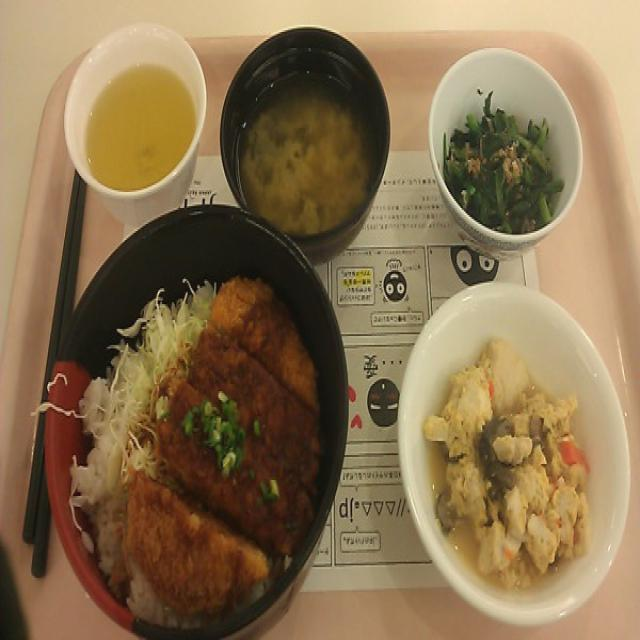pork-cutlet-on-rice: (35, 201, 363, 626)
